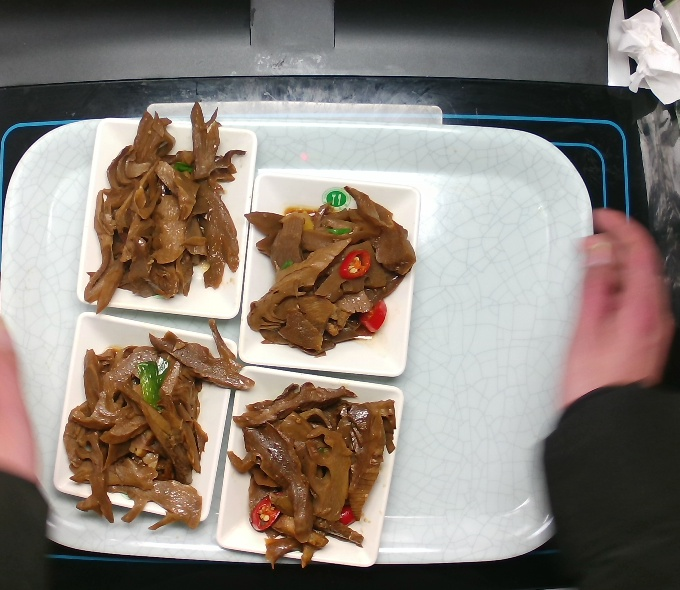wcq-SunGan: (60, 337, 249, 534), (80, 104, 250, 307), (228, 381, 390, 558), (245, 189, 412, 359)
